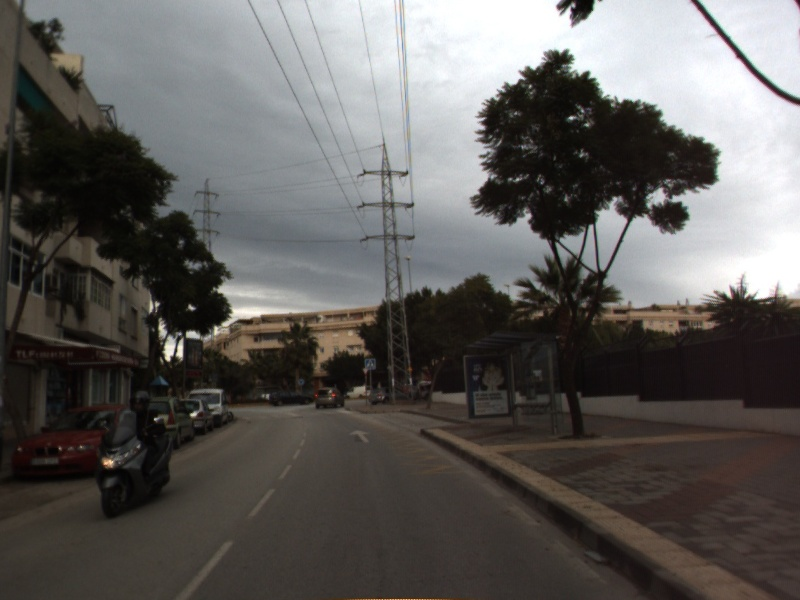STRAIGHT: (346, 427, 373, 444)
